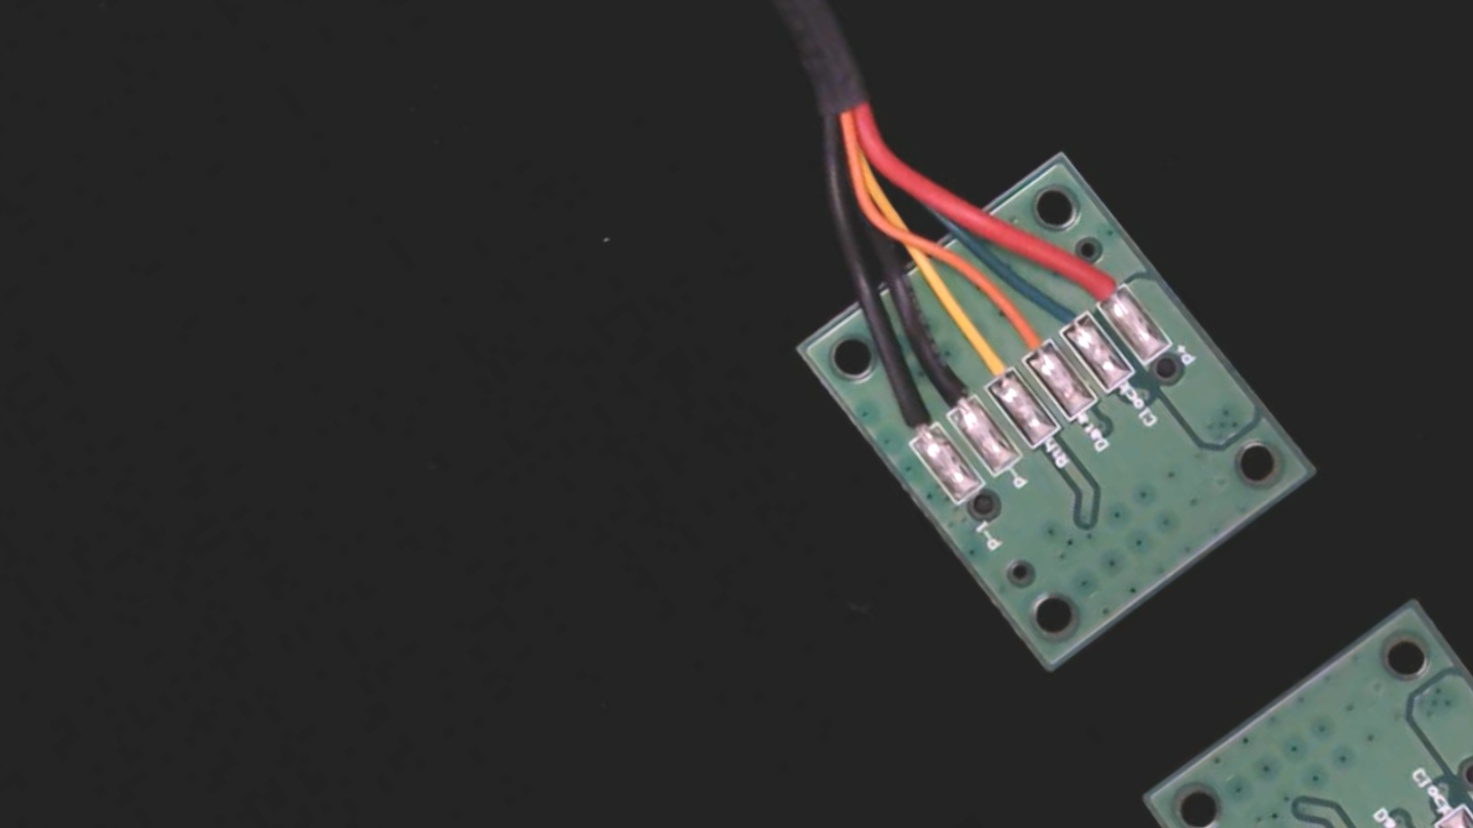Black: (902, 335, 991, 431)
Black1: (868, 370, 951, 460)
Green: (1025, 270, 1103, 352)
Orange: (981, 285, 1067, 378)
Red: (1058, 240, 1142, 327)
Yellow: (939, 309, 1028, 405)
